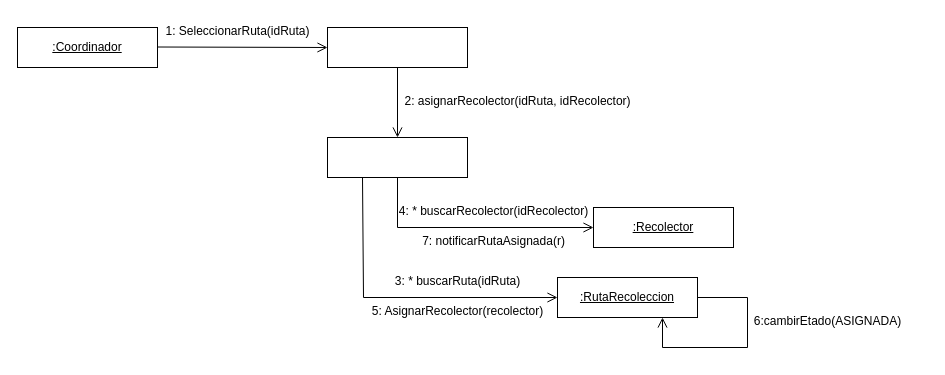
This 945x375 diagram has some shape labels left out. The centre of each missing label's shape, as x and y in pixels:
:ControladorRutas: point 397,157
:InterfazCoordinador: point 397,47
